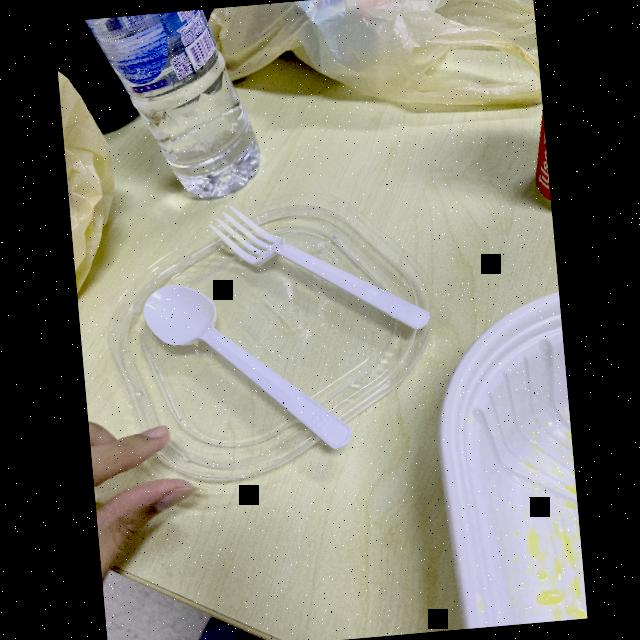plastic_spoon: (140, 264, 353, 468), (197, 191, 428, 346)
